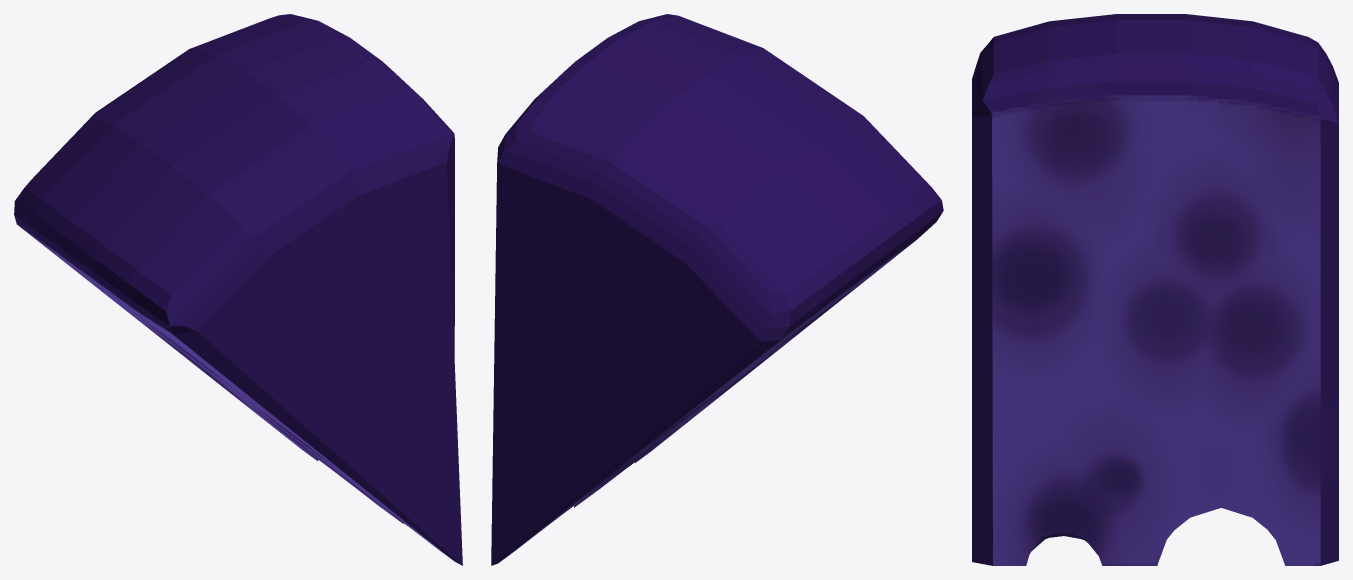
Rendered from GoudaBaked.gltf.
3 views of the same model, side by side, from view 1: azimuth 30°, elevation 25°; view 2: azimuth 150°, elevation 25°; view 3: azimuth 270°, elevation 25° (orthographic). The views are drawn at different scales.
Parts seen in each view (by area): view 1: Cylinder.011; view 2: Cylinder.011; view 3: Cylinder.011.
Part boxes in pixels (left/top/right/bottom): Cylinder.011: left=14, top=14, right=462, bottom=565; Cylinder.011: left=491, top=14, right=943, bottom=565; Cylinder.011: left=972, top=14, right=1338, bottom=565.
Size of the model in its own units: 0.6854 by 1 by 0.6694.
1 material, 1 textured.
